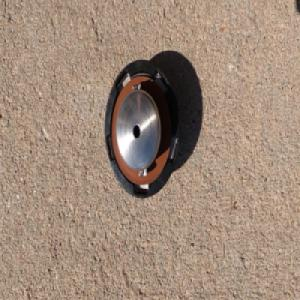FuelCap: (103, 55, 181, 199)
